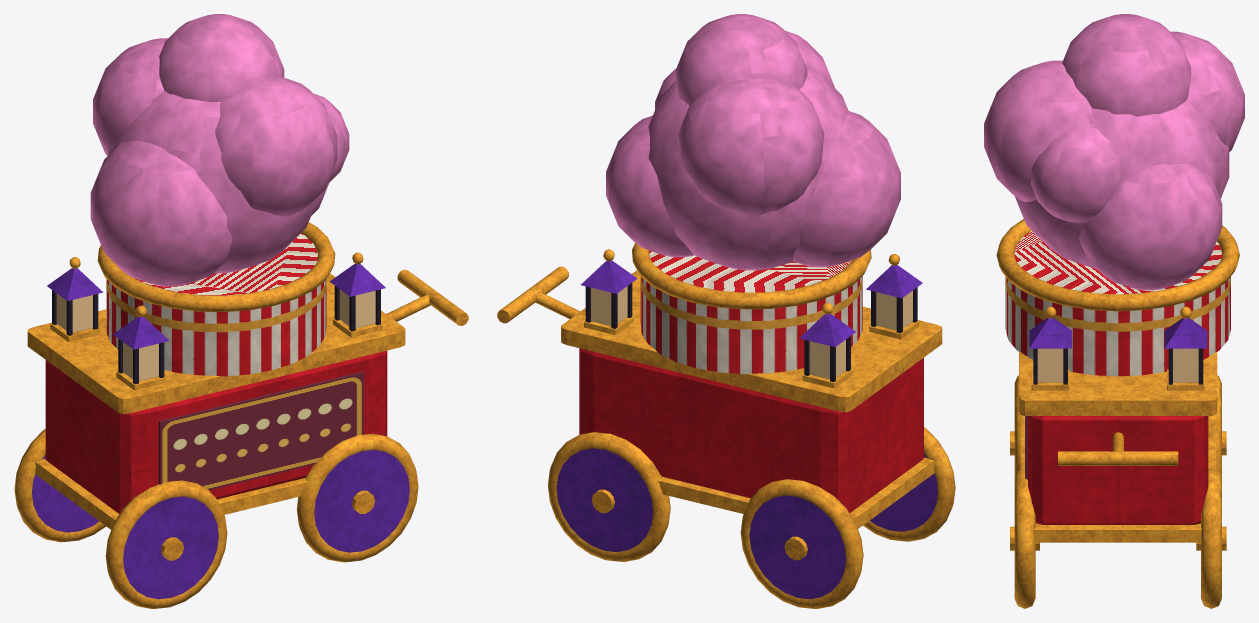
File: MO_CottonCandy.fbx
The picture shows the model from 3 angles, left to right: view 1: azimuth 30°, elevation 25°; view 2: azimuth 150°, elevation 25°; view 3: azimuth 270°, elevation 25°; orthographic projection. The views are drawn at different scales.
Visible parts, largest first — view 1: MO_CottonCandy; view 2: MO_CottonCandy; view 3: MO_CottonCandy.
Part boxes in pixels (left/top/right/bottom): MO_CottonCandy: left=14, top=14, right=468, bottom=608; MO_CottonCandy: left=497, top=14, right=955, bottom=608; MO_CottonCandy: left=984, top=14, right=1244, bottom=608.
Bounding box in the file's own units: 2.97 × 3.95 × 1.73.
